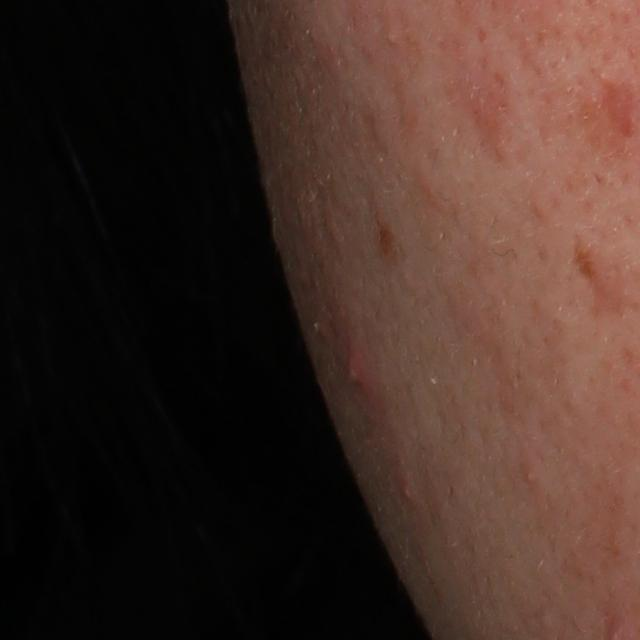atrophic_scar: (595, 75, 637, 146)
papule: (337, 350, 365, 390), (521, 463, 542, 487), (400, 481, 416, 502)
